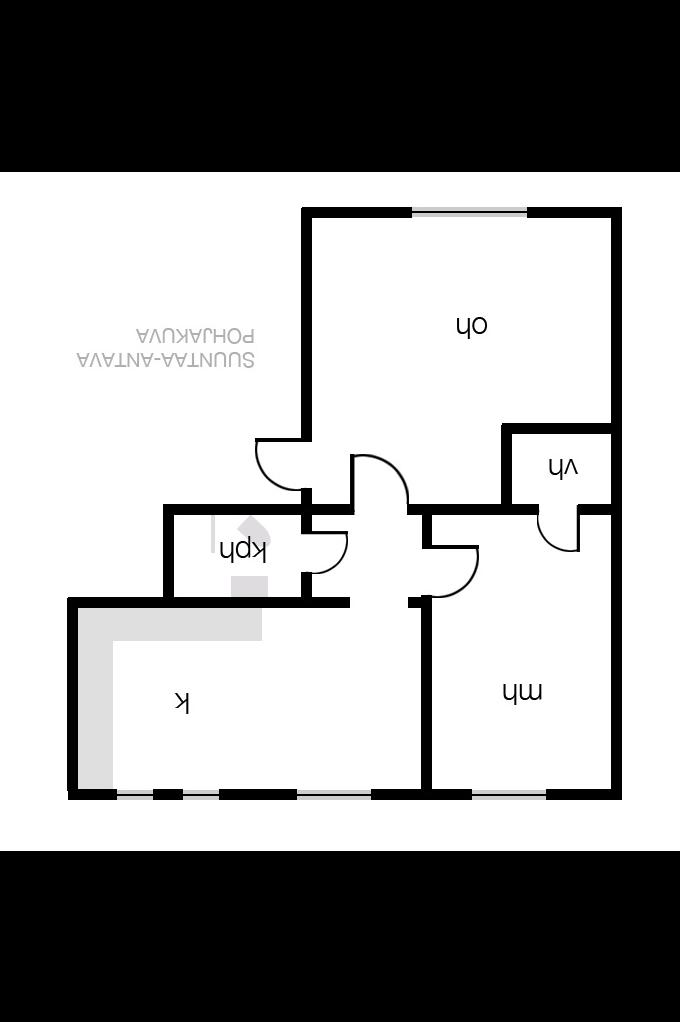door: (351, 444, 412, 516), (252, 433, 314, 494), (428, 540, 482, 597), (532, 500, 586, 554), (298, 526, 351, 574)
window: (400, 202, 542, 220), (462, 781, 556, 807), (286, 782, 380, 806), (172, 784, 229, 805), (103, 788, 164, 806)
